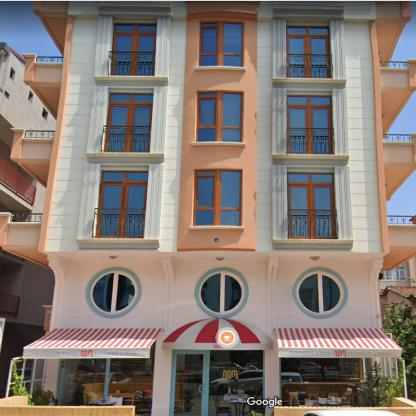door: (171, 351, 209, 414)
window: (59, 343, 155, 415), (210, 350, 265, 415), (94, 170, 148, 236), (288, 171, 339, 239), (282, 358, 364, 400), (193, 168, 243, 226), (104, 93, 153, 152), (288, 96, 334, 154), (110, 21, 157, 76), (197, 89, 243, 142), (288, 25, 332, 78), (200, 20, 245, 68), (296, 271, 345, 313), (90, 272, 137, 313), (200, 271, 244, 314), (381, 262, 408, 280)
